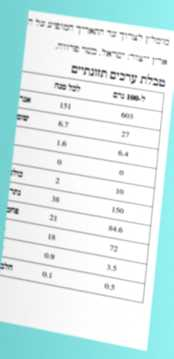carbs: (107, 223, 124, 236)
energy: (120, 110, 135, 122)
fat: (120, 129, 131, 140)
protein: (103, 281, 116, 293)
